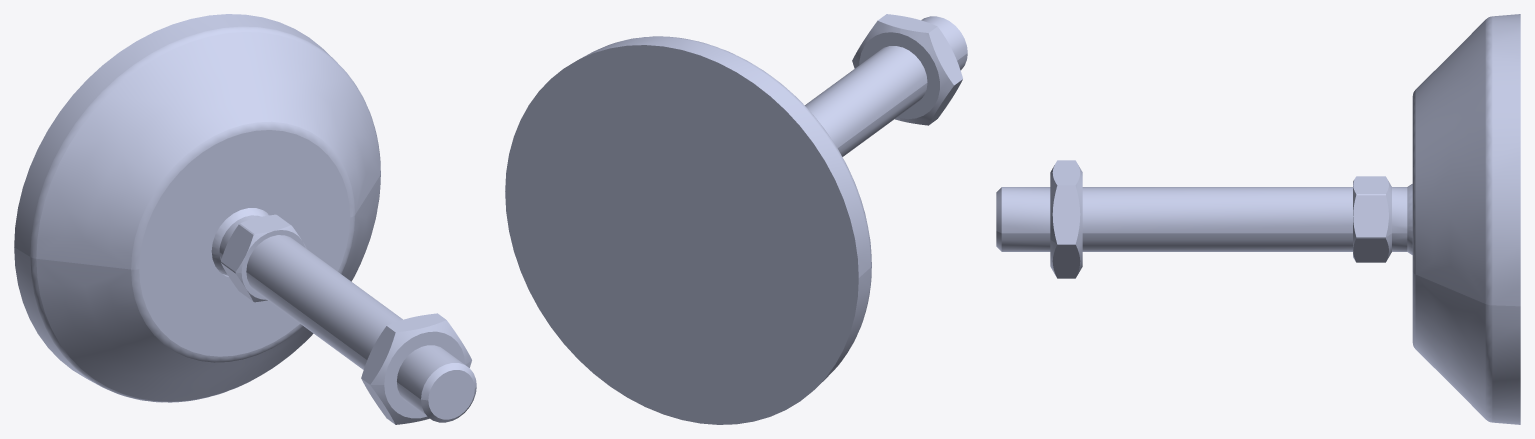
The model's file is foot.glb.
3 renders of one model, left to right at view 1: azimuth 30°, elevation 25°; view 2: azimuth 150°, elevation 25°; view 3: azimuth 270°, elevation 25°, orthographic.
Parts seen in each view (by area): view 1: stellfuss; view 2: stellfuss; view 3: stellfuss.
Part boxes in pixels (box(x1,y1,x2,y2)): stellfuss: box(14, 14, 476, 424); stellfuss: box(505, 14, 967, 424); stellfuss: box(996, 14, 1520, 424).
Size of the model in its own units: 76 by 76 by 97.
